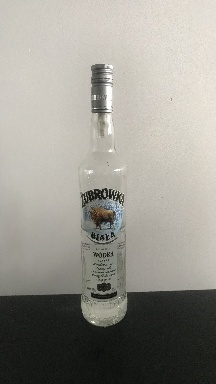butelka: (76, 59, 128, 331)
